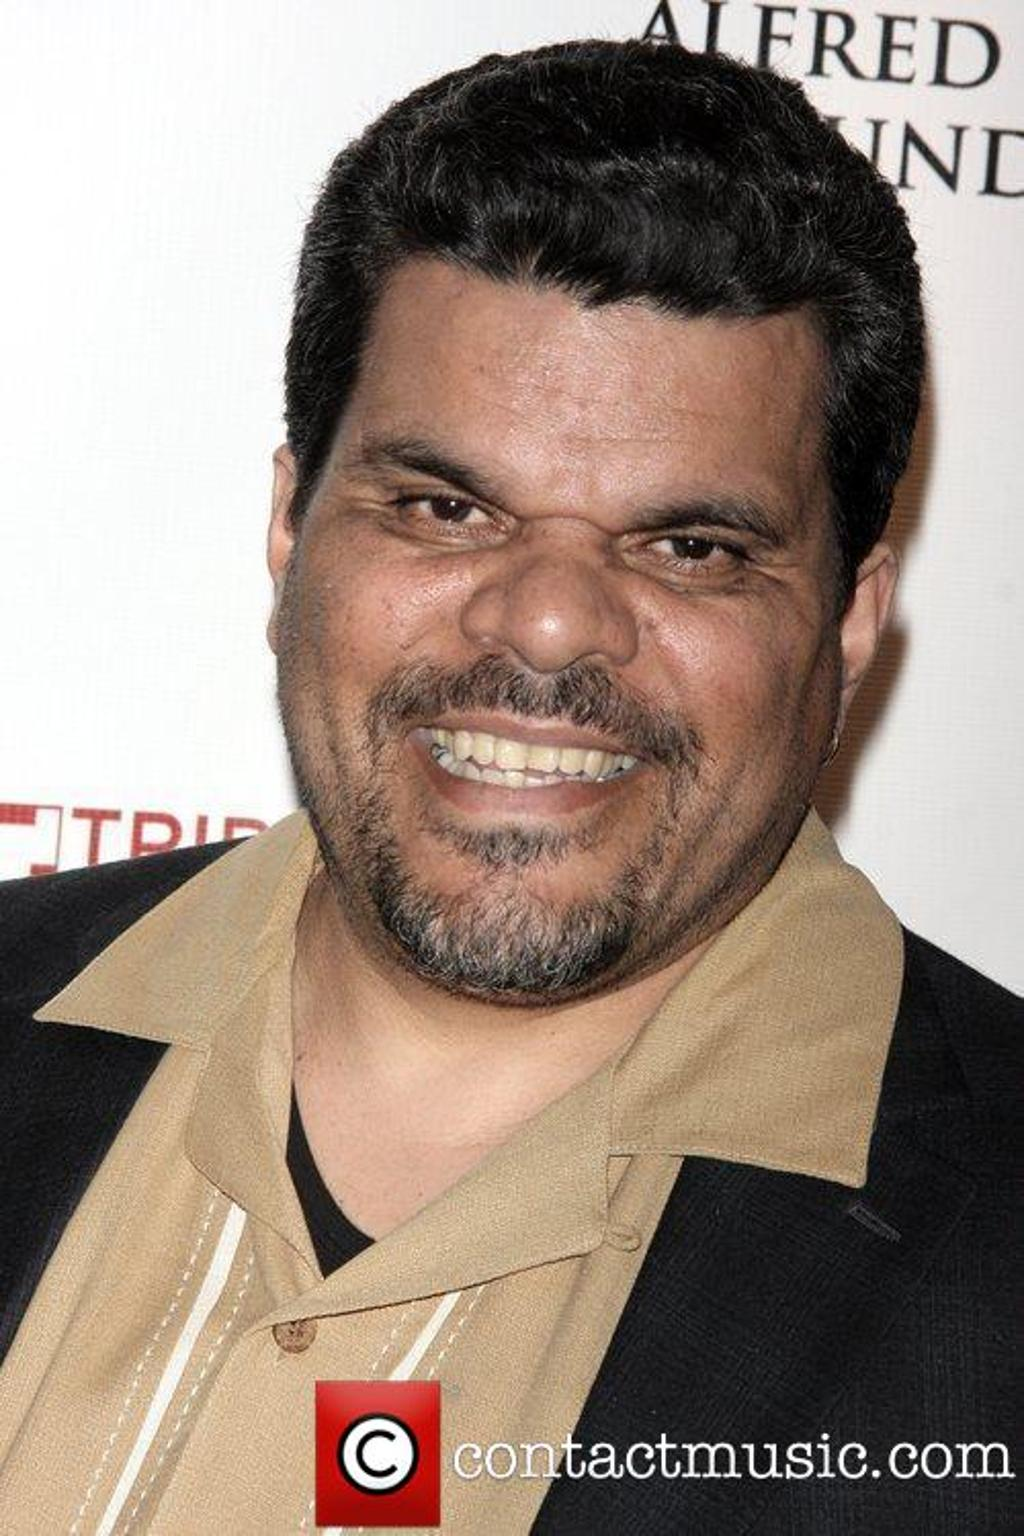face: (270, 279, 844, 994)
